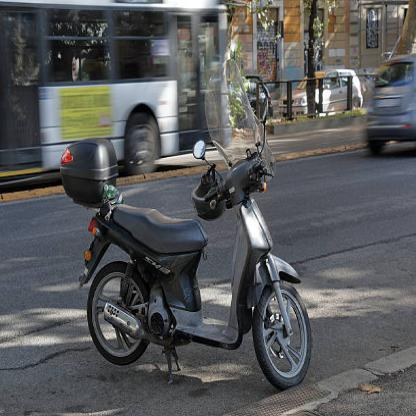Motorcycle: (50, 85, 314, 391)
